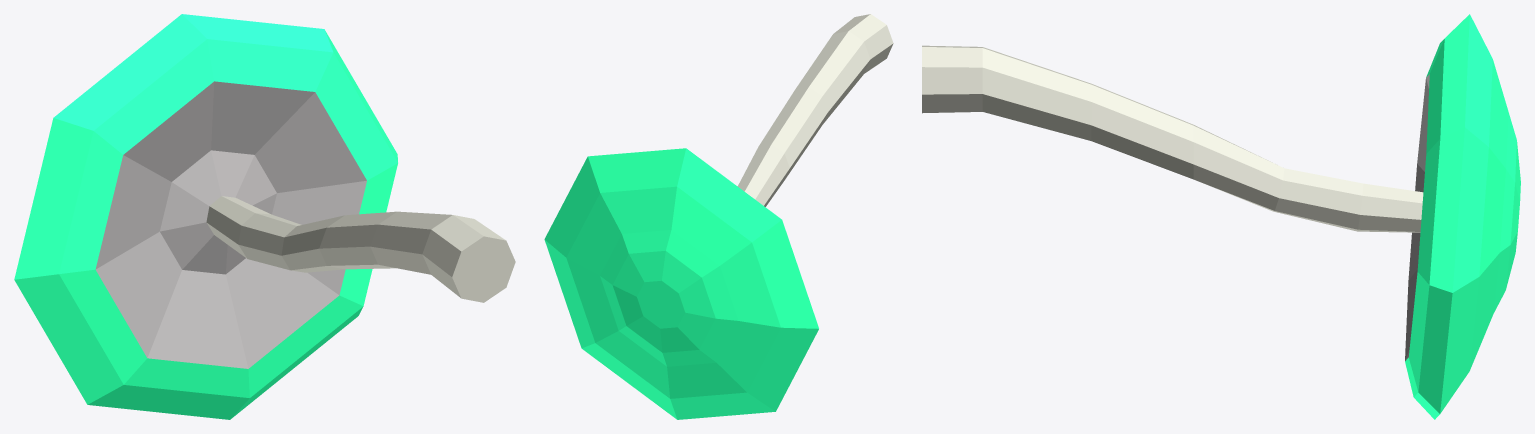
The model's file is Mushroom_1_Tall.fbx.
The picture shows the model from 3 angles, left to right: view 1: azimuth 30°, elevation 25°; view 2: azimuth 150°, elevation 25°; view 3: azimuth 270°, elevation 25°; orthographic projection. The views are drawn at different scales.
Visible parts, largest first — view 1: Mushroom_1_Tall; view 2: Mushroom_1_Tall; view 3: Mushroom_1_Tall.
Part boxes in pixels (left/top/right/bottom): Mushroom_1_Tall: left=14, top=14, right=515, bottom=419; Mushroom_1_Tall: left=544, top=14, right=893, bottom=419; Mushroom_1_Tall: left=922, top=14, right=1520, bottom=419.
Size of the model in its own units: 54.42 by 54.24 by 75.2.
